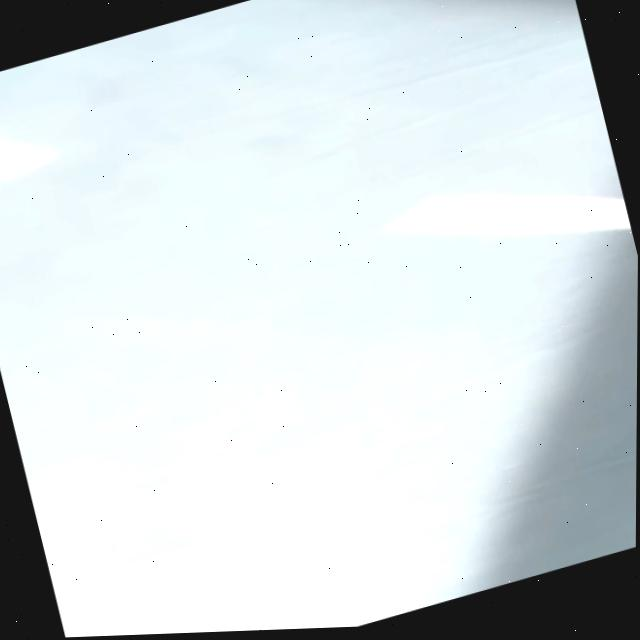center: (387, 194, 631, 231), (388, 194, 631, 231), (0, 139, 59, 179)
